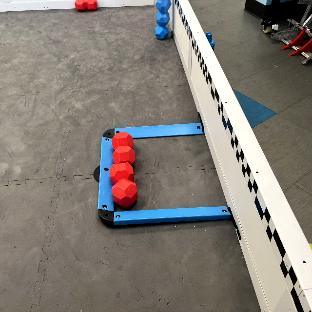V5_BLUE: (154, 0, 171, 37)
V5_RED: (109, 132, 136, 206), (76, 0, 97, 11)
